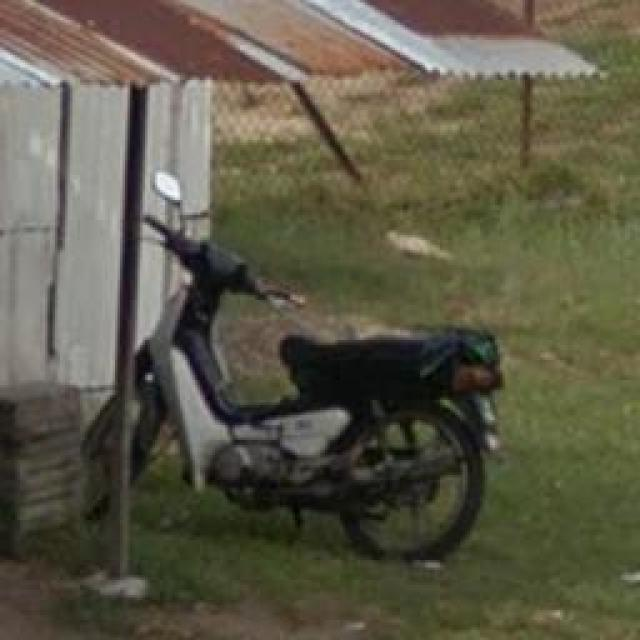motorcycle: (115, 167, 505, 565)
